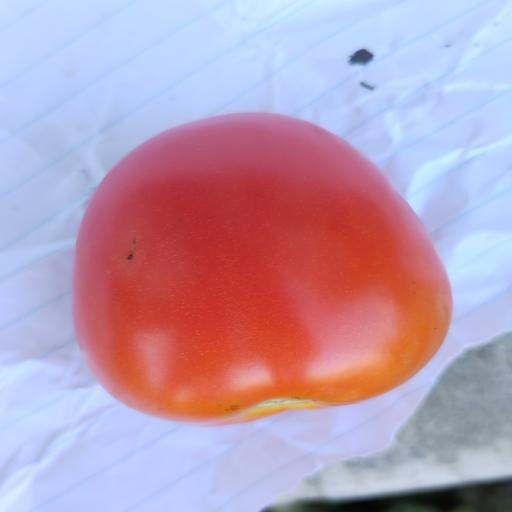ripe: (73, 113, 451, 424)
